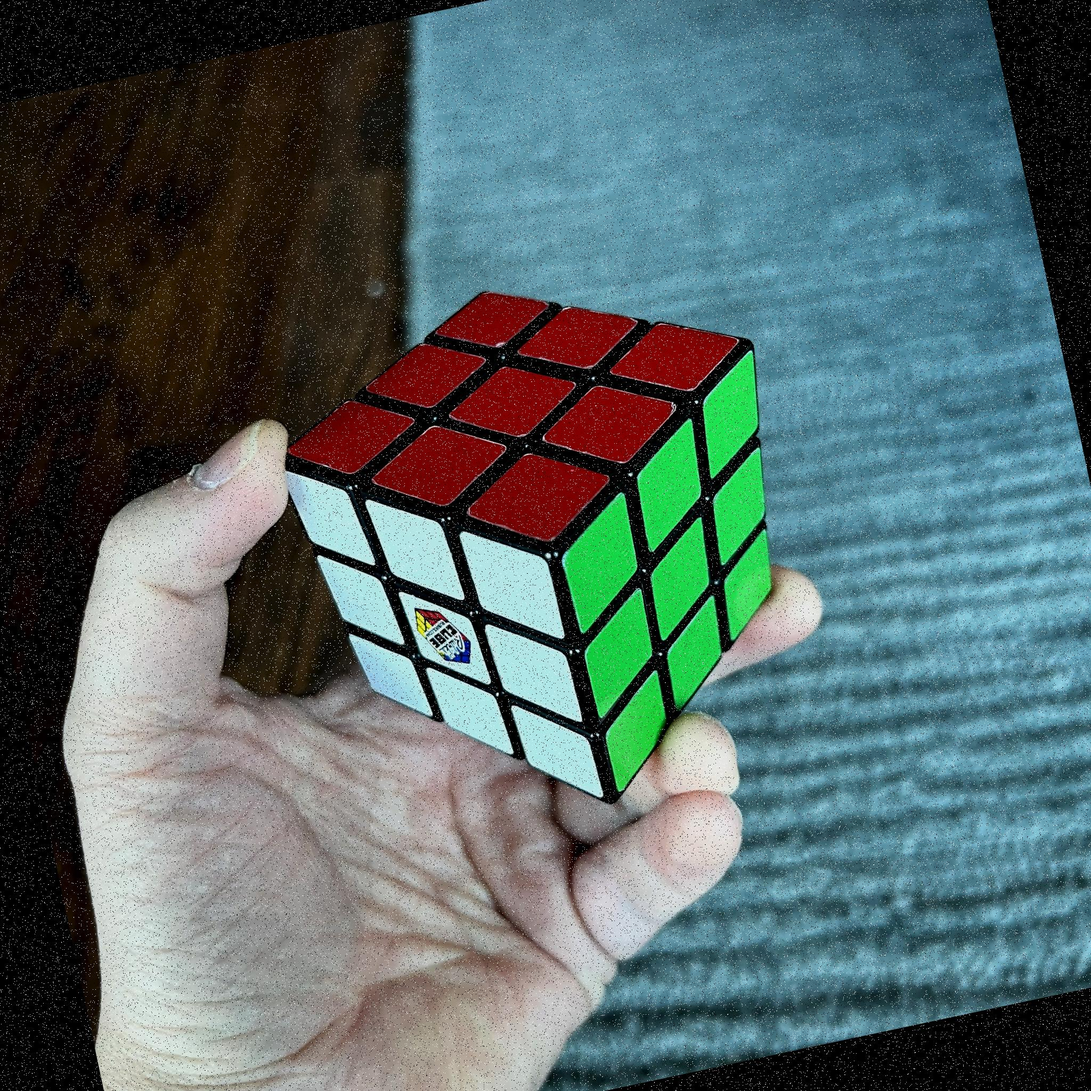rubiks_cube: (286, 291, 771, 797)
